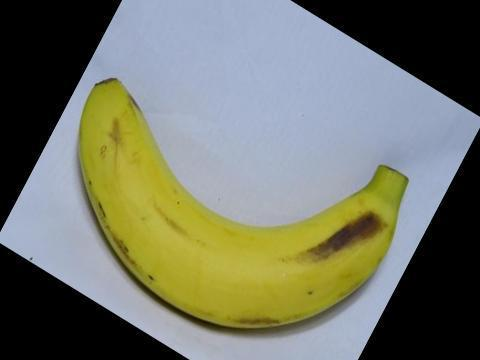freshripe: (62, 67, 415, 341)
